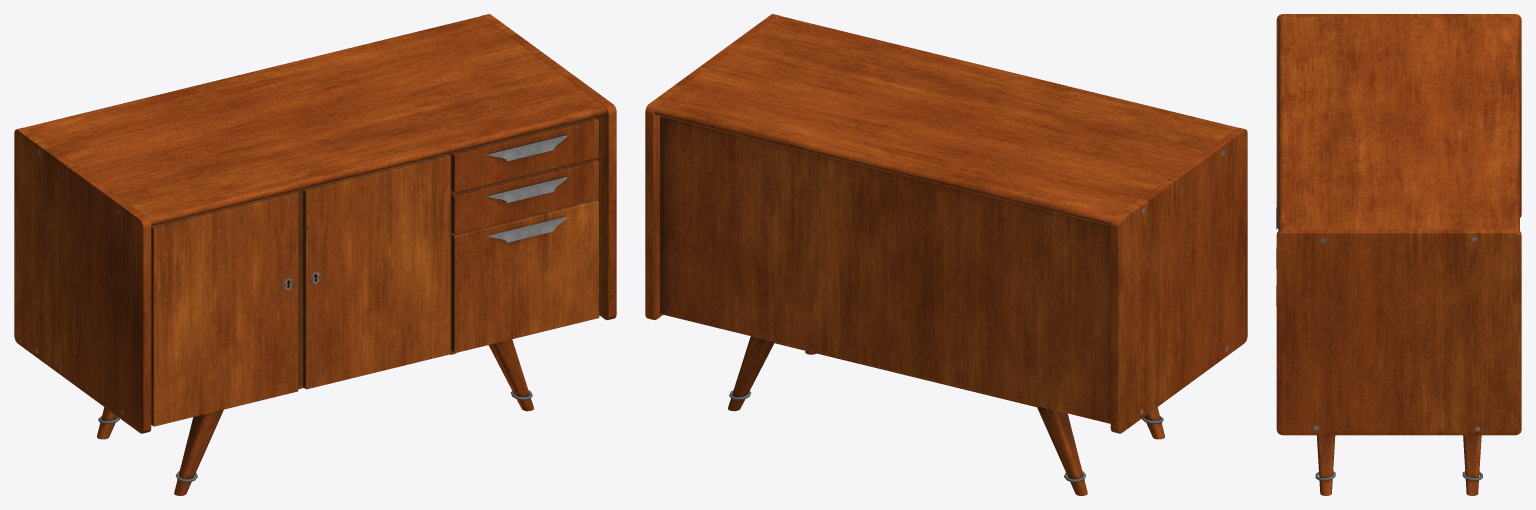
The model's file is cabinet.glb.
3 renders of one model, left to right at view 1: azimuth 30°, elevation 25°; view 2: azimuth 150°, elevation 25°; view 3: azimuth 270°, elevation 25°, orthographic. The views are drawn at different scales.
Visible parts, largest first — view 1: Cabinet_lambert1_0; view 2: Cabinet_lambert1_0; view 3: Cabinet_lambert1_0.
Part boxes in pixels (bbox=[...]): Cabinet_lambert1_0: bbox=[14, 14, 616, 495]; Cabinet_lambert1_0: bbox=[645, 14, 1247, 495]; Cabinet_lambert1_0: bbox=[1276, 14, 1521, 495].
Size of the model in its own units: 4.25 by 2.62 by 2.01.
Materials: 1 (1 with a texture image).
